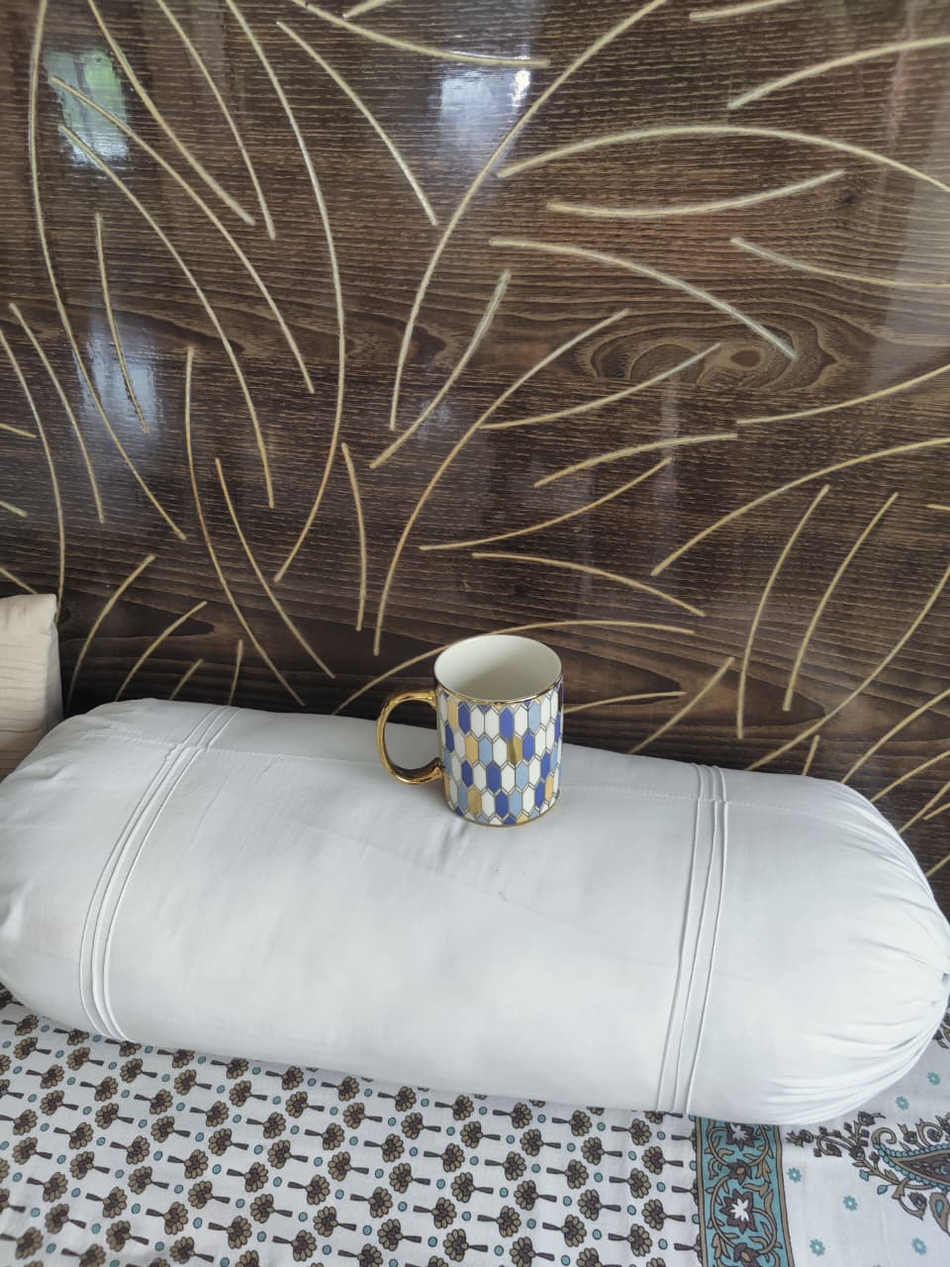cup: (376, 634, 561, 827)
